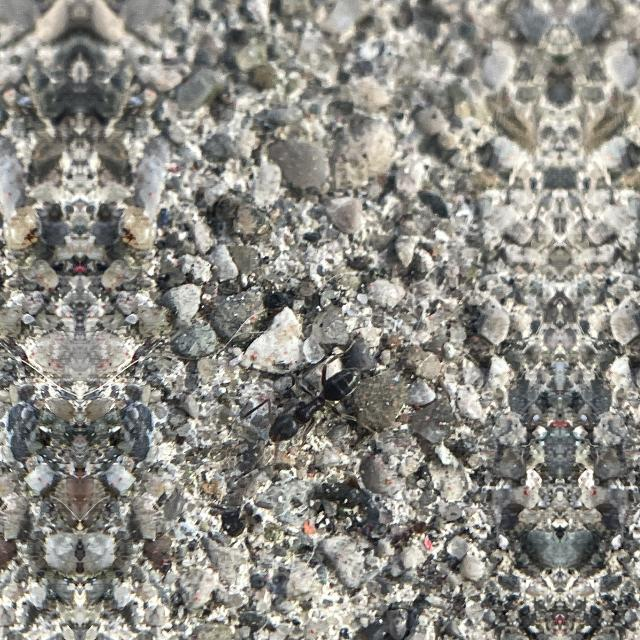Tapinoma: (258, 341, 370, 461)
